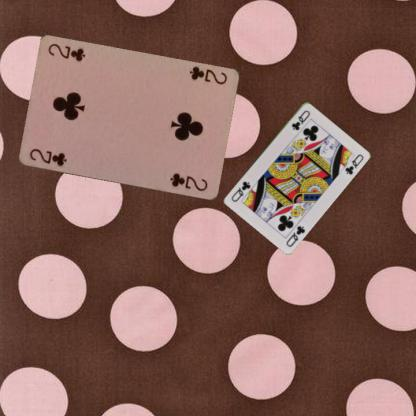2c: (186, 64, 228, 86), (27, 146, 68, 168)
Qc: (289, 107, 311, 132), (284, 223, 306, 248)
